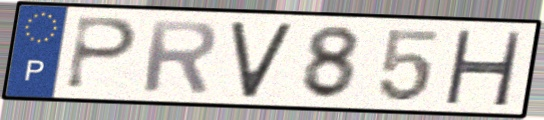5: (375, 26, 443, 103)
8: (299, 24, 364, 101)
H: (440, 27, 525, 109)
P: (61, 14, 141, 93)
R: (140, 17, 221, 95)
V: (227, 20, 297, 100)
